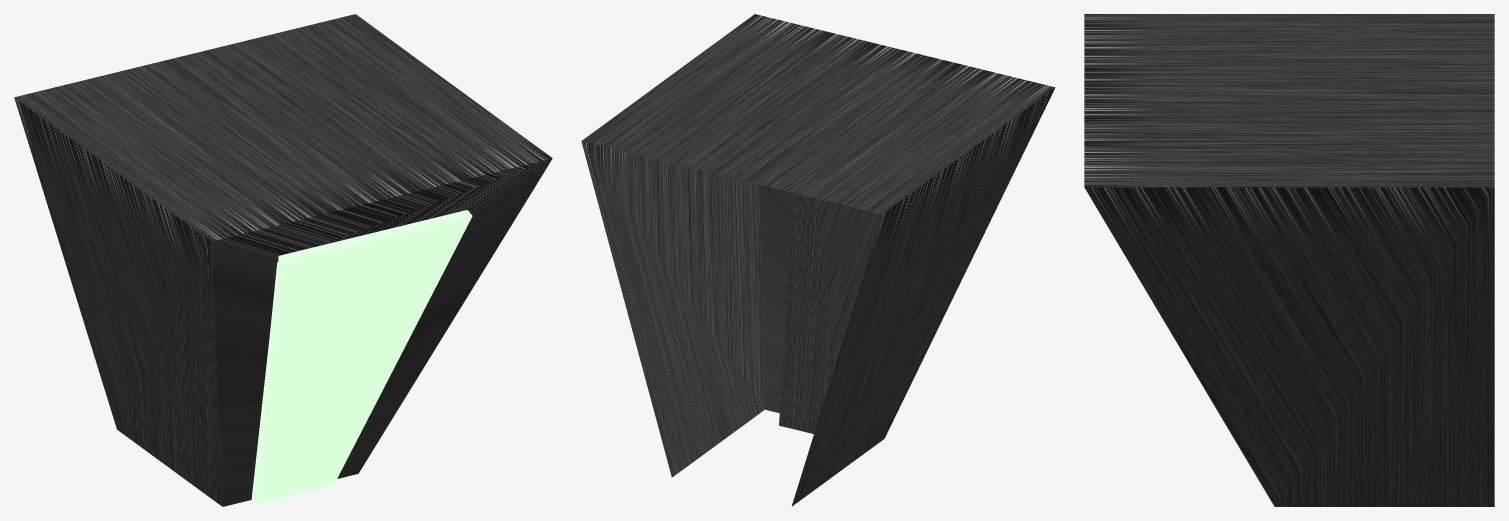
File: CubeBaseFrontColumn2Top.fbx
3 renders of one model, left to right at view 1: azimuth 30°, elevation 25°; view 2: azimuth 150°, elevation 25°; view 3: azimuth 270°, elevation 25°, orthographic. The views are drawn at different scales.
Visible parts, largest first — view 1: polySurface6, pasted__pCube3; view 2: polySurface6; view 3: polySurface6.
Boxes of the visible parts, x1,y1,x2,y2 form: polySurface6: (14,14,552,506); pasted__pCube3: (251,210,472,503); polySurface6: (581,14,1055,506); polySurface6: (1084,14,1494,506).
Bounding box in the file's own units: 1 × 1 × 1.
2 materials, 1 textured.
